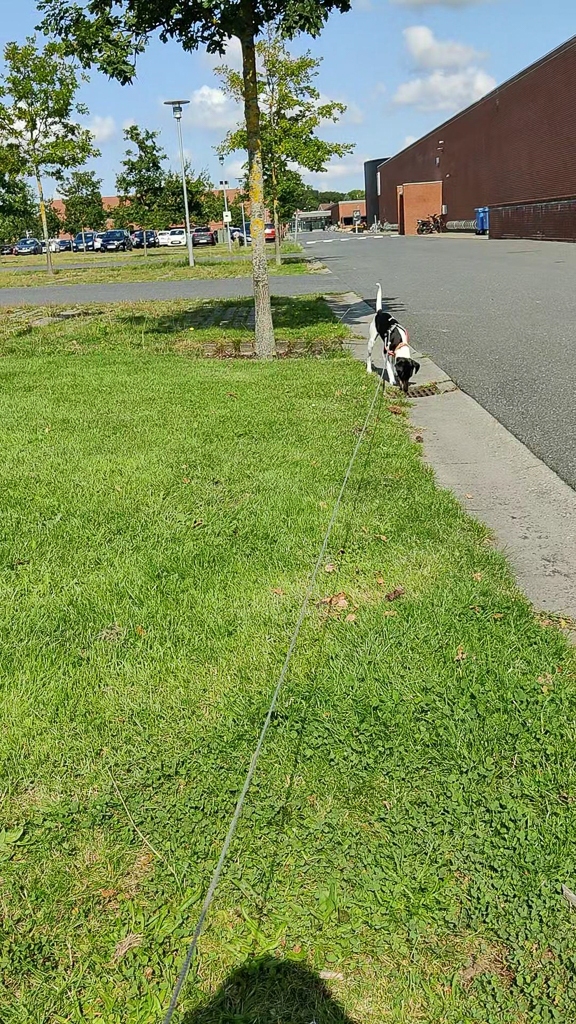Dog: (356, 275, 428, 399)
